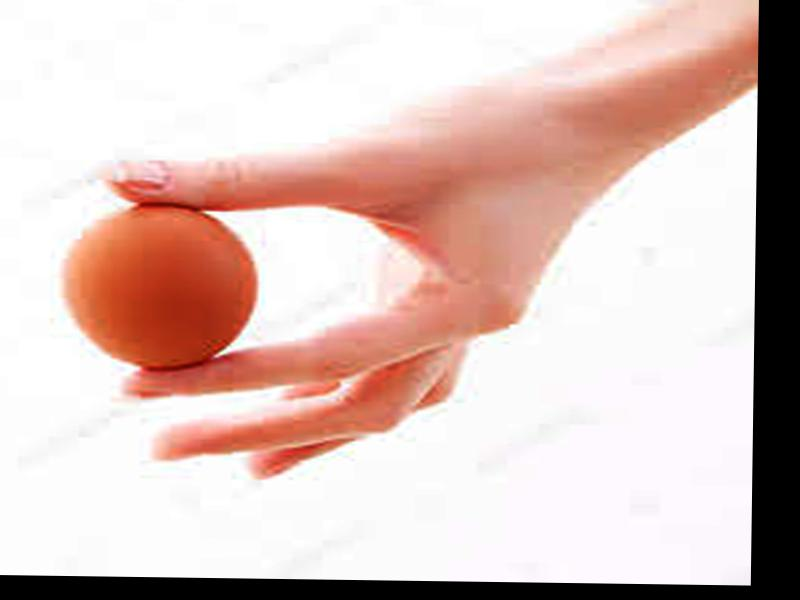Eggs: (64, 201, 254, 372)
